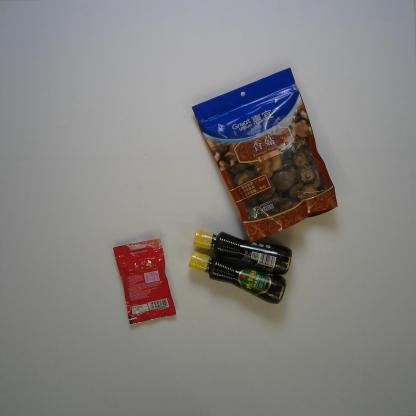Candy: (112, 238, 177, 325)
Dried Food: (190, 64, 340, 244)
Seasoner: (185, 250, 287, 307), (192, 229, 293, 275)
